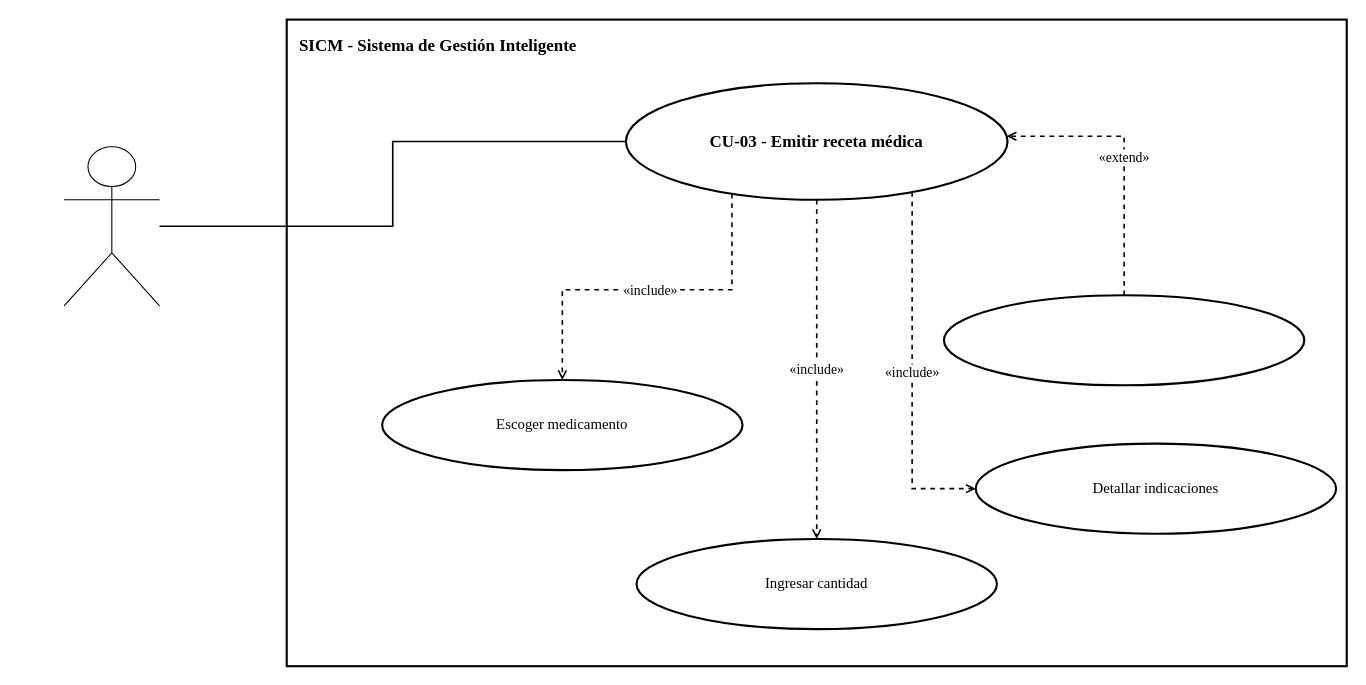
Image size: 1366x685. Some labels were removed from this diagram. The shapes that lost their labels are listed below. From the top down, each one's centre as x and y in pixels, then its label:
At point 111,226: "Médico General /Odontologa".
At point 1123,340: "Notificar stock insuficiente".
